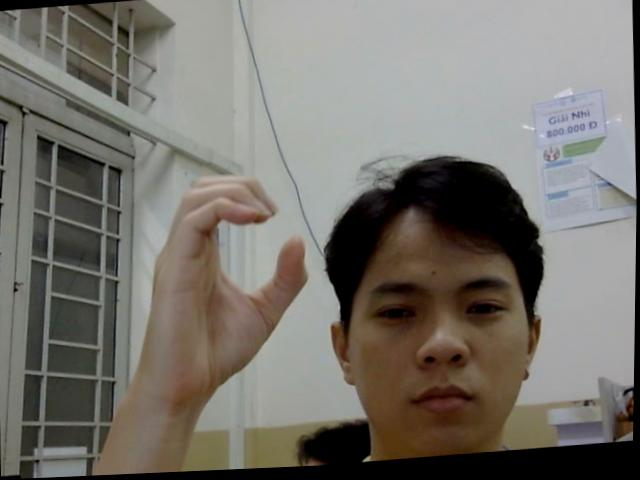C: (128, 168, 315, 410)
